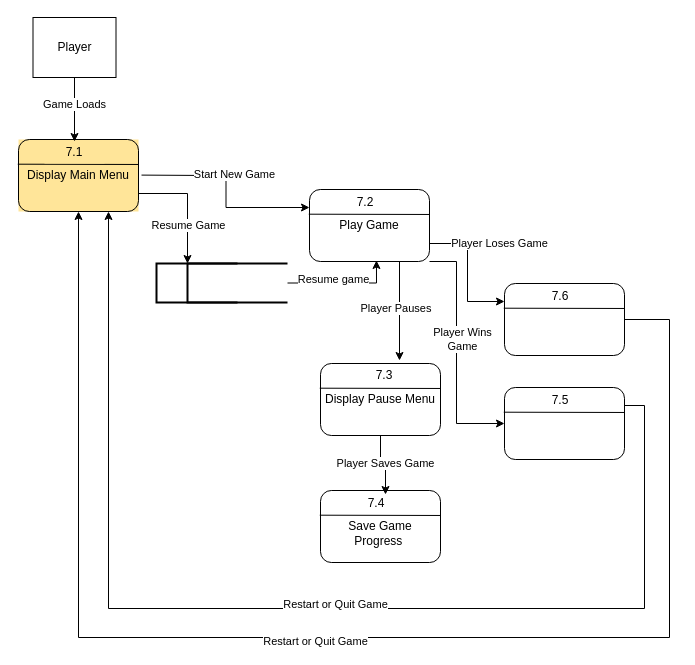
Some shapes in this 695 by 665 pixel diagram are drawn without their labels. The box of each missing label's shape, as (x1, y1, x2, y2) in pixels:
Display Game Over Screen: (504, 282, 624, 356)
Display Game Victory Screen: (504, 386, 624, 460)
Game Data: (186, 262, 238, 303)
